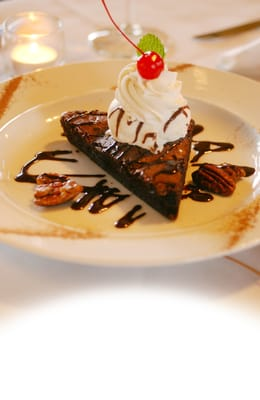pizza: (0, 10, 66, 79)
